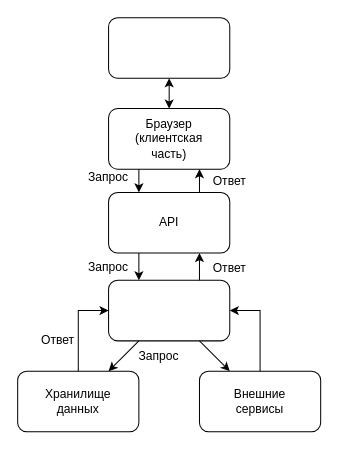
This 338x449 diagram has some shape labels left out. Each missing label, with the box of its shape:
Пользователь: (108, 17, 230, 78)
Сервер Ozon: (108, 279, 230, 341)
